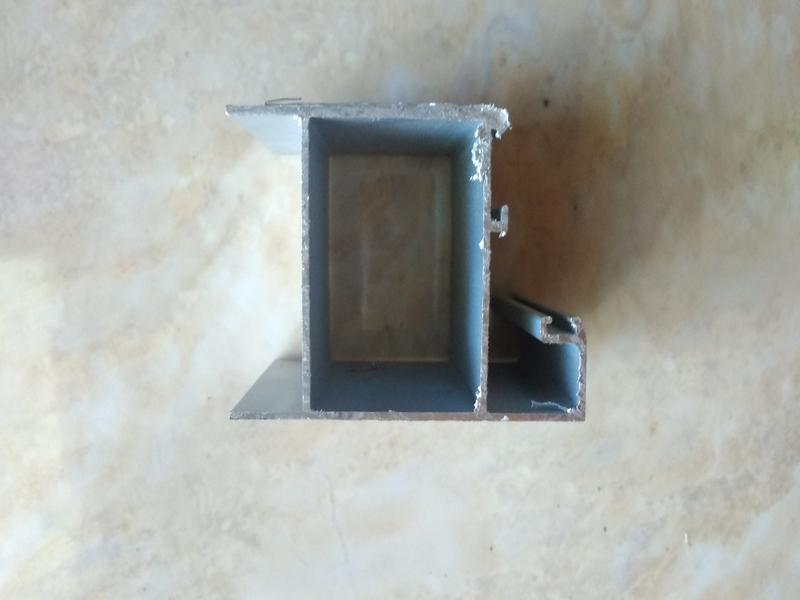Aluminium_2: (185, 79, 628, 450)
